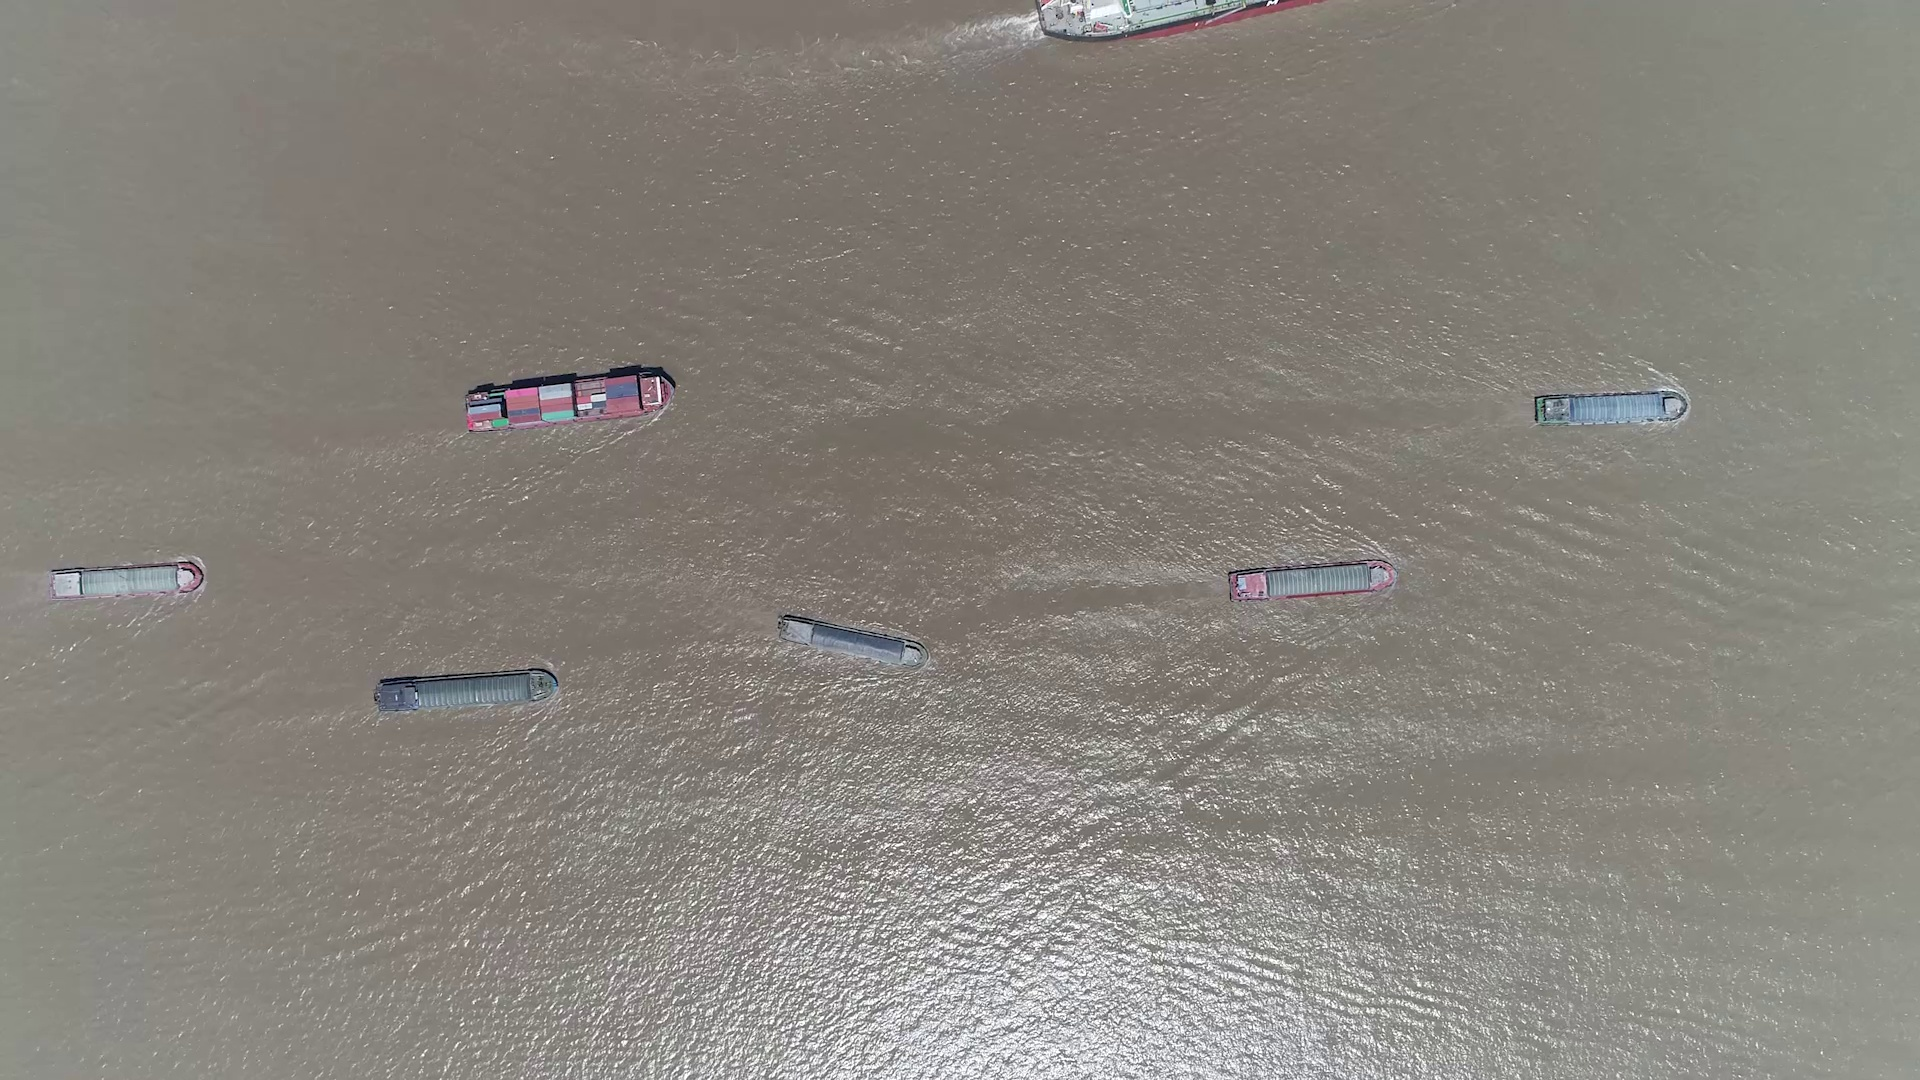ship: (463, 367, 676, 434), (1033, 1, 1321, 36), (775, 613, 928, 669), (377, 667, 558, 713), (1230, 559, 1398, 603), (47, 564, 204, 601), (1535, 392, 1687, 427)
